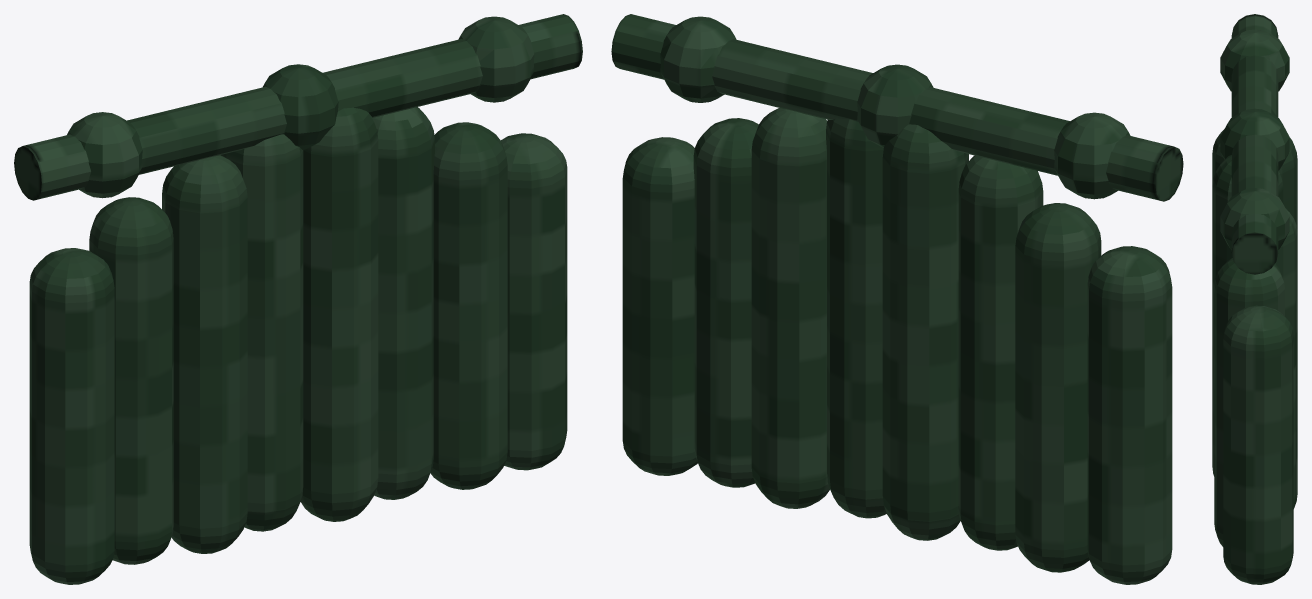
Rendered from rings_membrane.obj.
The picture shows the model from 3 angles, left to right: view 1: azimuth 30°, elevation 25°; view 2: azimuth 150°, elevation 25°; view 3: azimuth 270°, elevation 25°; orthographic projection. The views are drawn at different scales.
Size of the model in its own units: 2.9 by 2.33 by 0.4787.
1 material, 1 textured.
